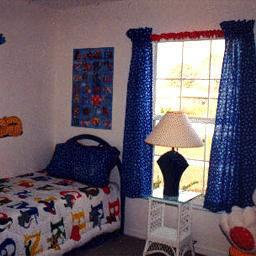Cama: (2, 148, 118, 253)
Ventana: (135, 43, 236, 200)
